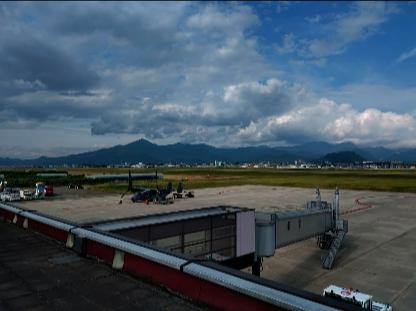Tornado: (121, 168, 183, 201)
